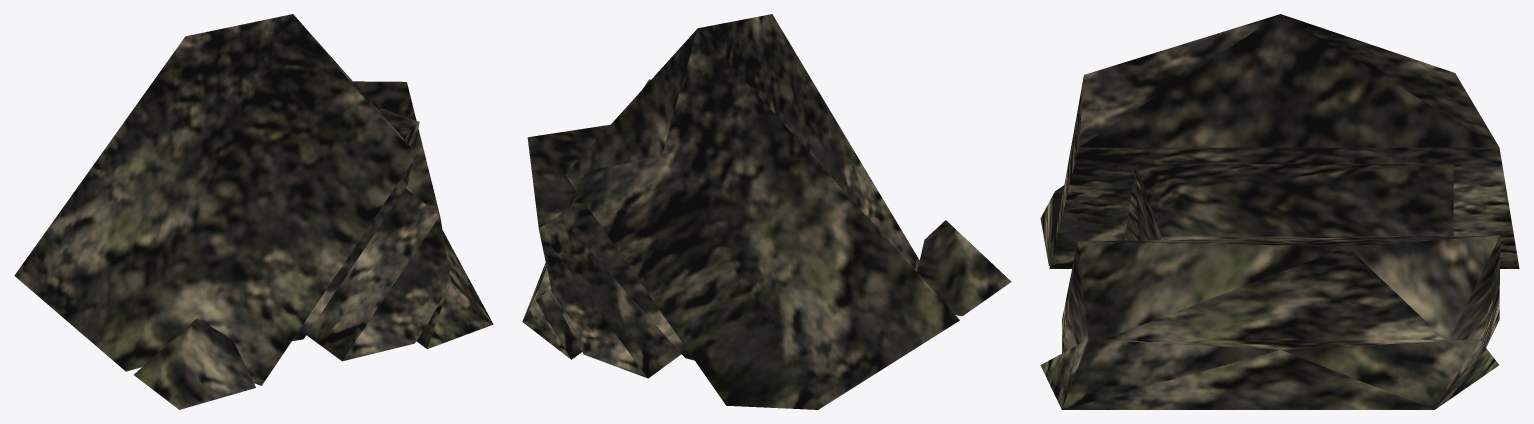
The model's file is rock_tformation1_hdtex.glb.
3 views of the same model, side by side, from view 1: azimuth 30°, elevation 25°; view 2: azimuth 150°, elevation 25°; view 3: azimuth 270°, elevation 25° (orthographic). The views are drawn at different scales.
Parts seen in each view (by area): view 1: Rock_TFormation1; view 2: Rock_TFormation1; view 3: Rock_TFormation1.
Boxes of the visible parts, x1,y1,x2,y2 form: Rock_TFormation1: (14, 14, 493, 409); Rock_TFormation1: (522, 14, 1011, 409); Rock_TFormation1: (1040, 14, 1519, 409).
Size of the model in its own units: 25.13 by 18.4 by 24.16.
Materials: 1 (1 with a texture image).
